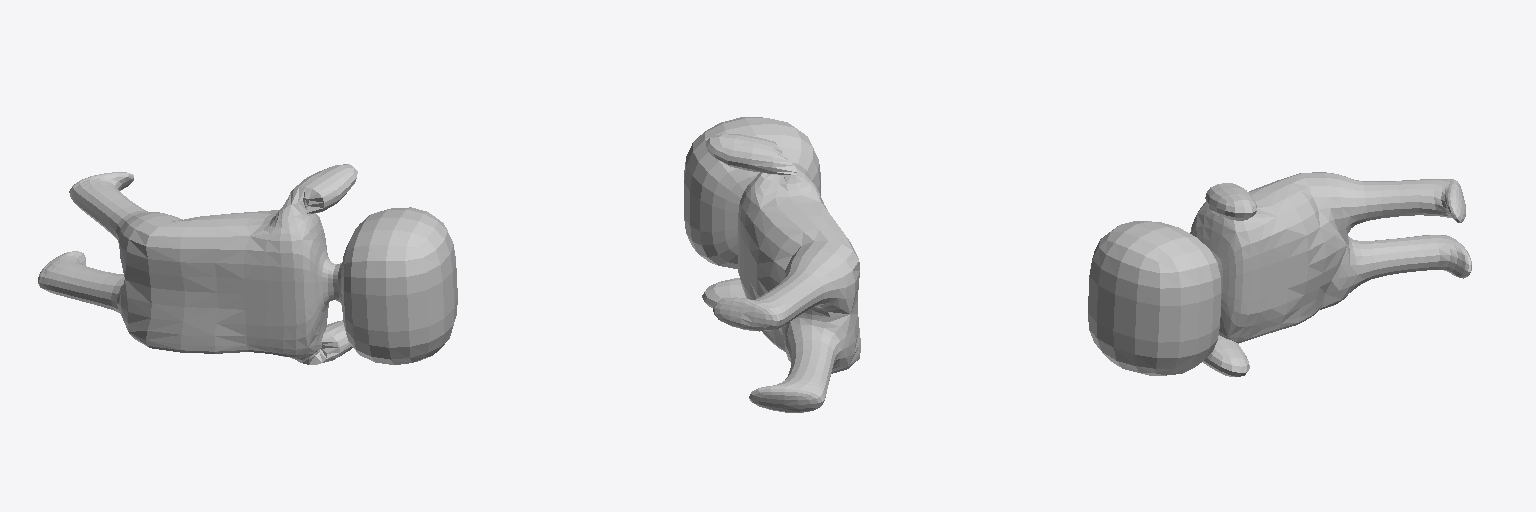
The model's file is antman_push_18.obj.
The picture shows the model from 3 angles: view 1: azimuth 30°, elevation 25°; view 2: azimuth 150°, elevation 25°; view 3: azimuth 270°, elevation 25°; orthographic projection.
Visible parts, largest first — view 1: Cube; view 2: Cube; view 3: Cube.
Part boxes in pixels (x1,y1,x2,y2): Cube: (38,164,457,364); Cube: (684,117,860,412); Cube: (1088,172,1471,376).
Size of the model in its own units: 1.34 by 0.8339 by 1.64.